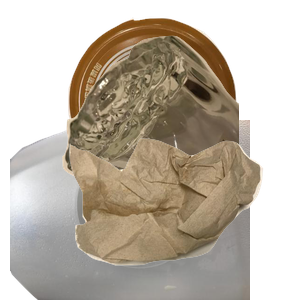glass: (60, 33, 300, 213)
metal: (66, 15, 297, 193)
plastic: (10, 120, 250, 300)
trash: (67, 136, 300, 300)
